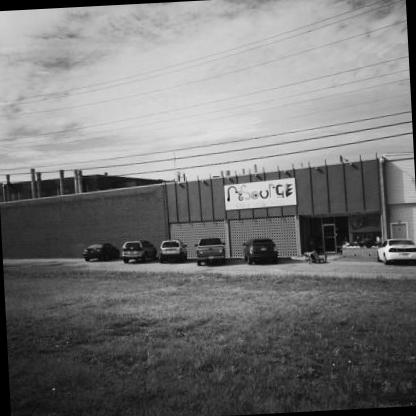car: (242, 230, 285, 275), (110, 233, 158, 273), (192, 230, 233, 276), (374, 231, 416, 271), (82, 240, 121, 264), (161, 237, 185, 264)
